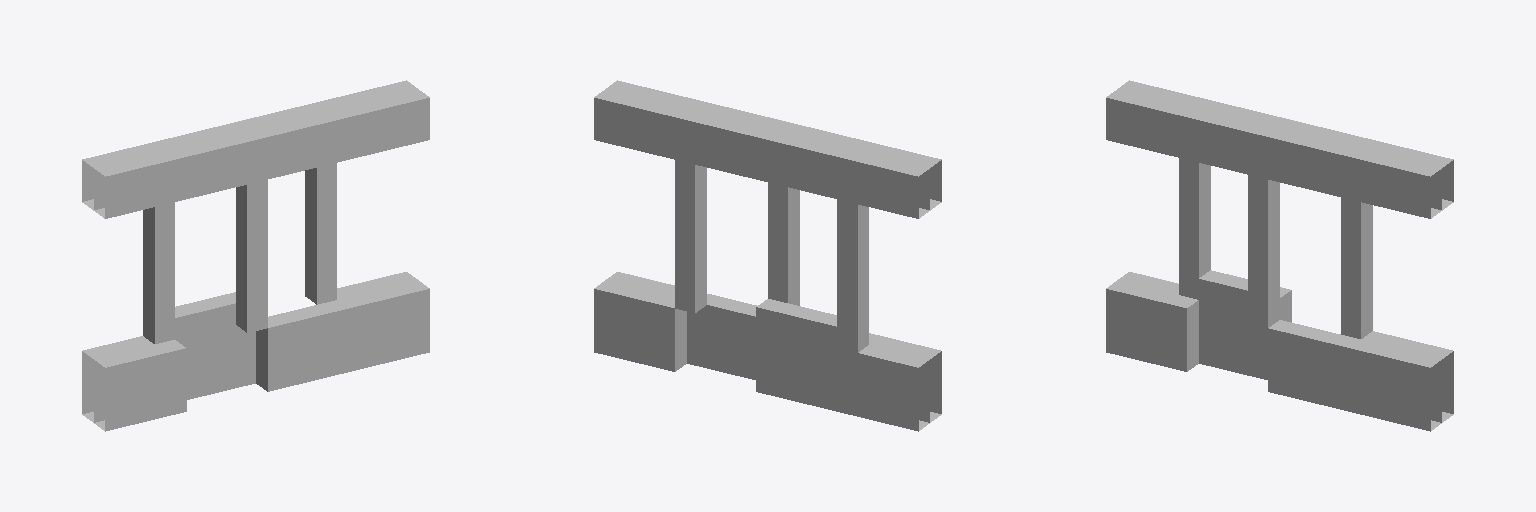
The model's file is Colby1NoMat.obj.
3 views of the same model, side by side, from view 1: azimuth 30°, elevation 25°; view 2: azimuth 150°, elevation 25°; view 3: azimuth 330°, elevation 25° (orthographic).
Visible parts, largest first — view 1: Plane.001_Plane.002, Plane; view 2: Plane, Plane.001_Plane.002; view 3: Plane.001_Plane.002, Plane.
Part boxes in pixels (bbox=[...]): Plane.001_Plane.002: bbox=[94, 89, 429, 431]; Plane: bbox=[82, 80, 417, 422]; Plane: bbox=[594, 89, 929, 431]; Plane.001_Plane.002: bbox=[606, 80, 941, 422]; Plane.001_Plane.002: bbox=[1106, 89, 1441, 431]; Plane: bbox=[1118, 80, 1453, 422].
Bounding box in the file's own units: 16 × 12 × 2.